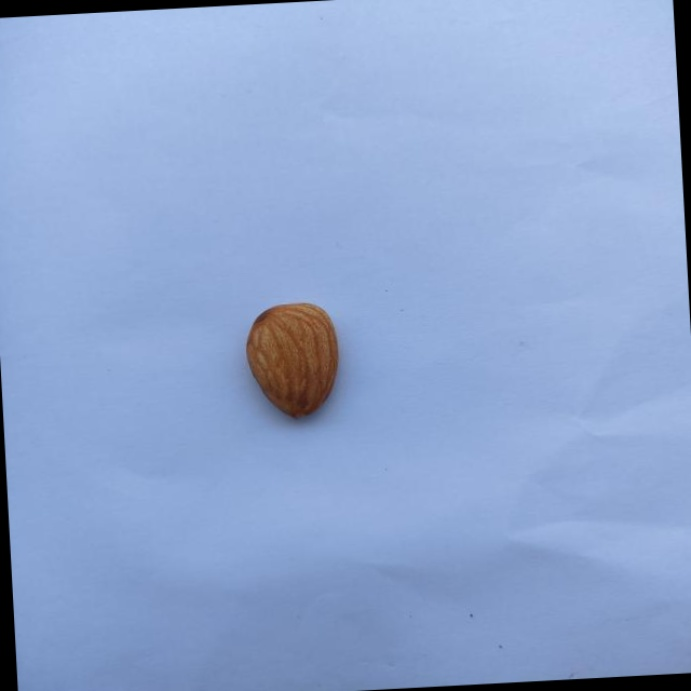grade1: (237, 293, 353, 430)
